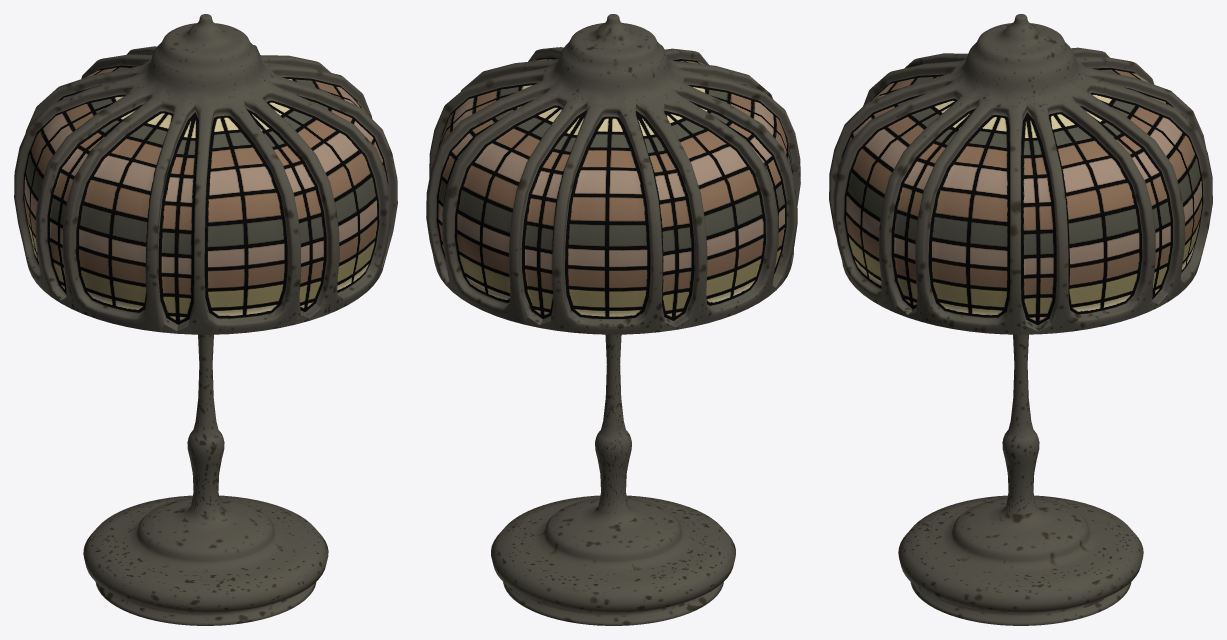
Rendered from lamp.glb.
3 views of the same model, side by side, from view 1: azimuth 30°, elevation 25°; view 2: azimuth 150°, elevation 25°; view 3: azimuth 270°, elevation 25° (orthographic).
Visible parts, largest first — view 1: Lamp A_0; view 2: Lamp A_0; view 3: Lamp A_0.
Boxes of the visible parts, left/top/right/bottom form: Lamp A_0: left=14, top=14, right=397, bottom=625; Lamp A_0: left=426, top=14, right=800, bottom=625; Lamp A_0: left=829, top=14, right=1212, bottom=625.
Bounding box in the file's own units: 3.74 × 6.06 × 3.74.
Materials: 1 (1 with a texture image).
